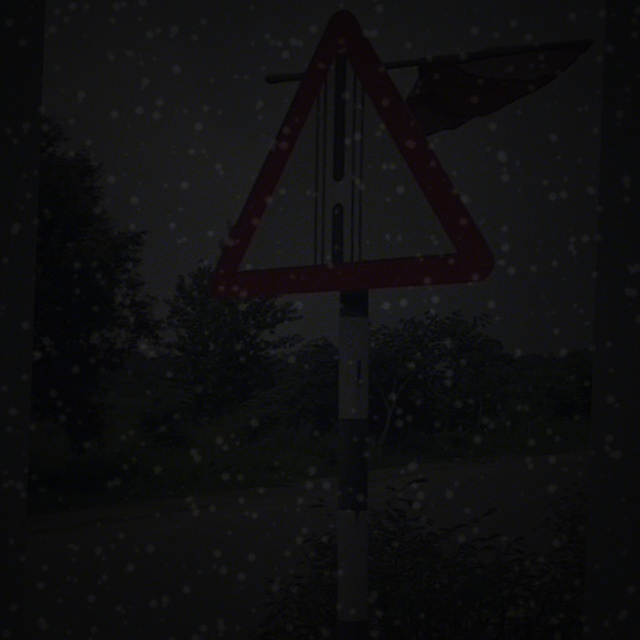Gap_in_Median: (214, 16, 500, 297)
